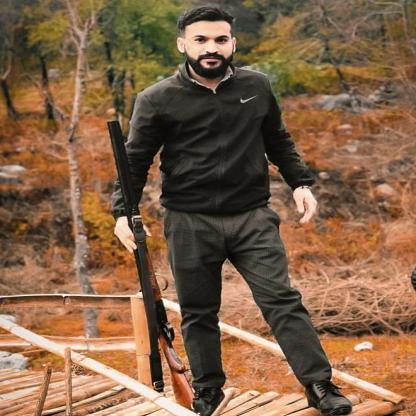rifle: (106, 119, 198, 412)
